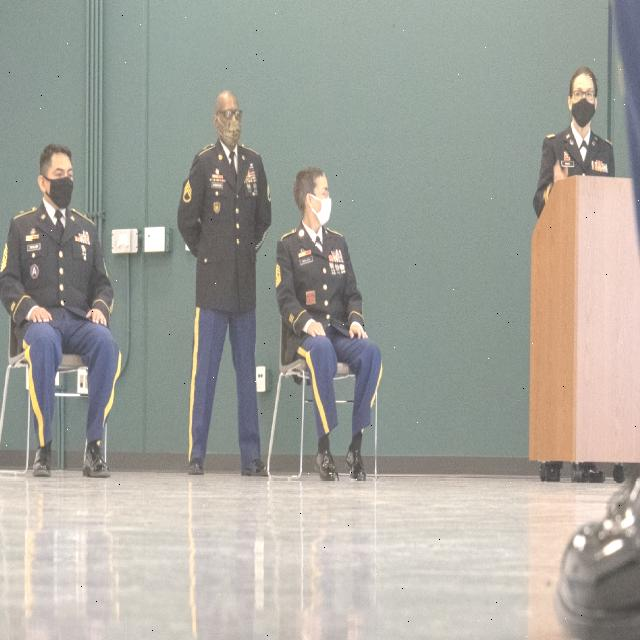police: (268, 130, 411, 498), (148, 72, 270, 490), (0, 123, 105, 534), (511, 47, 624, 272)
